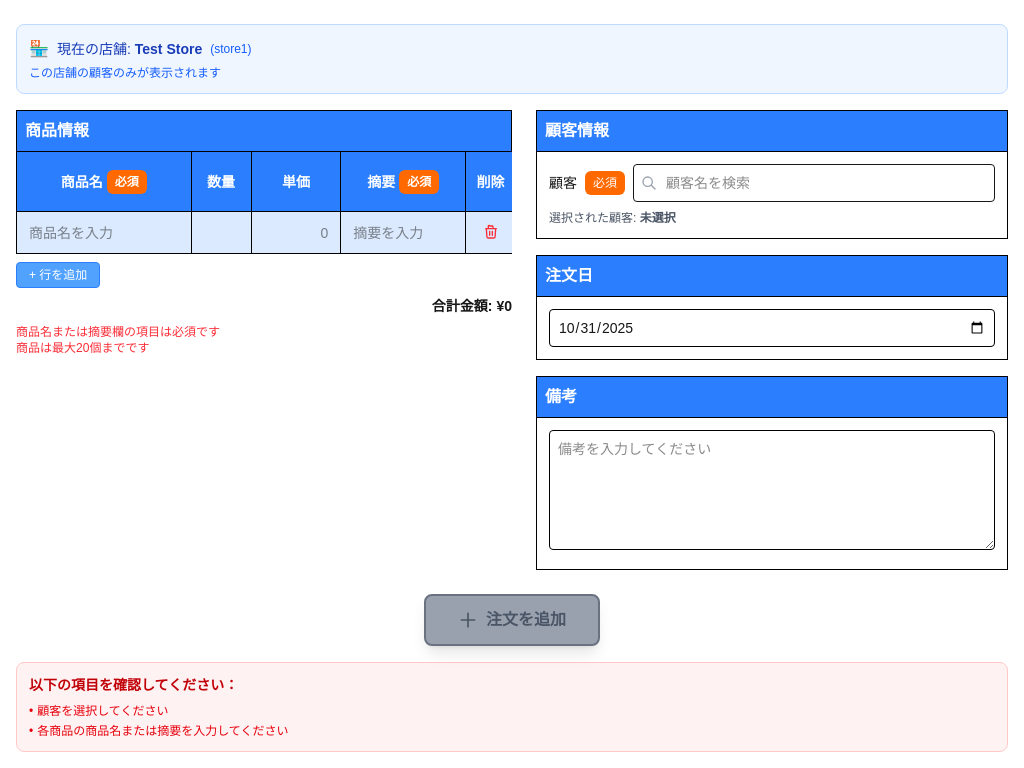
Test: OrderAddPage › cancels product deletion
The width and height of the screenshot is (1024, 768).
// Add second product first
Click the button "+ 行を追加" at (58,275), box [16,262,100,288]
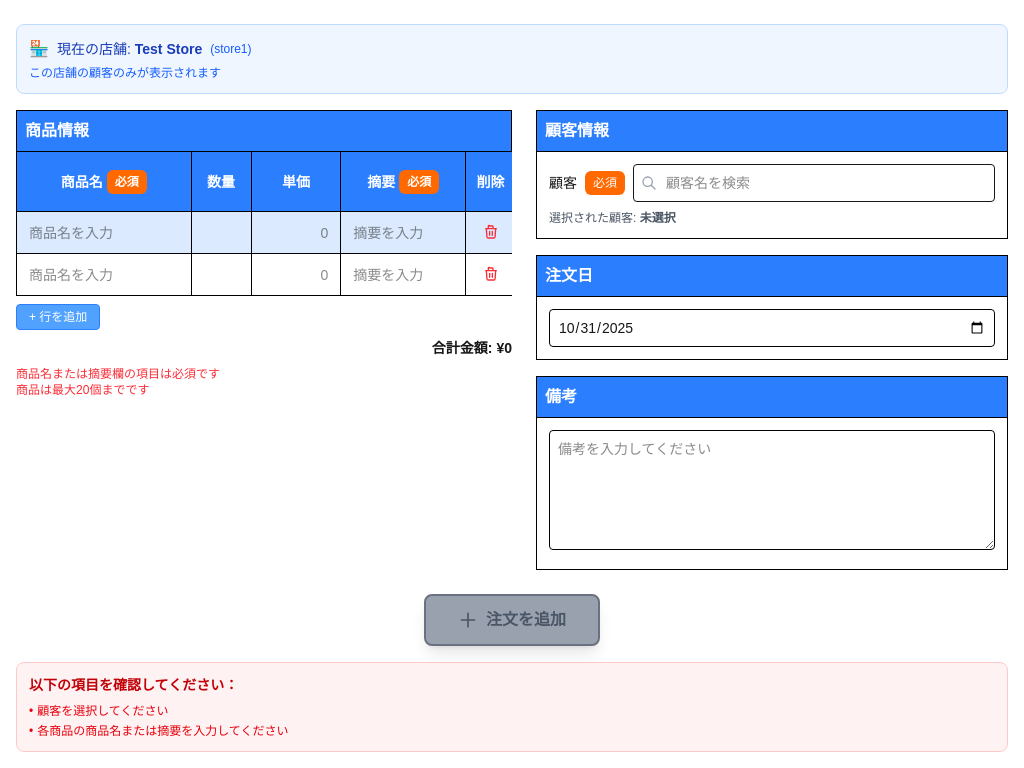
Expected: the number of buttons titled "この行を削除" is 2
// Click delete button
Click the 1st button titled "この行を削除" at (490,232), box [478,220,502,244]
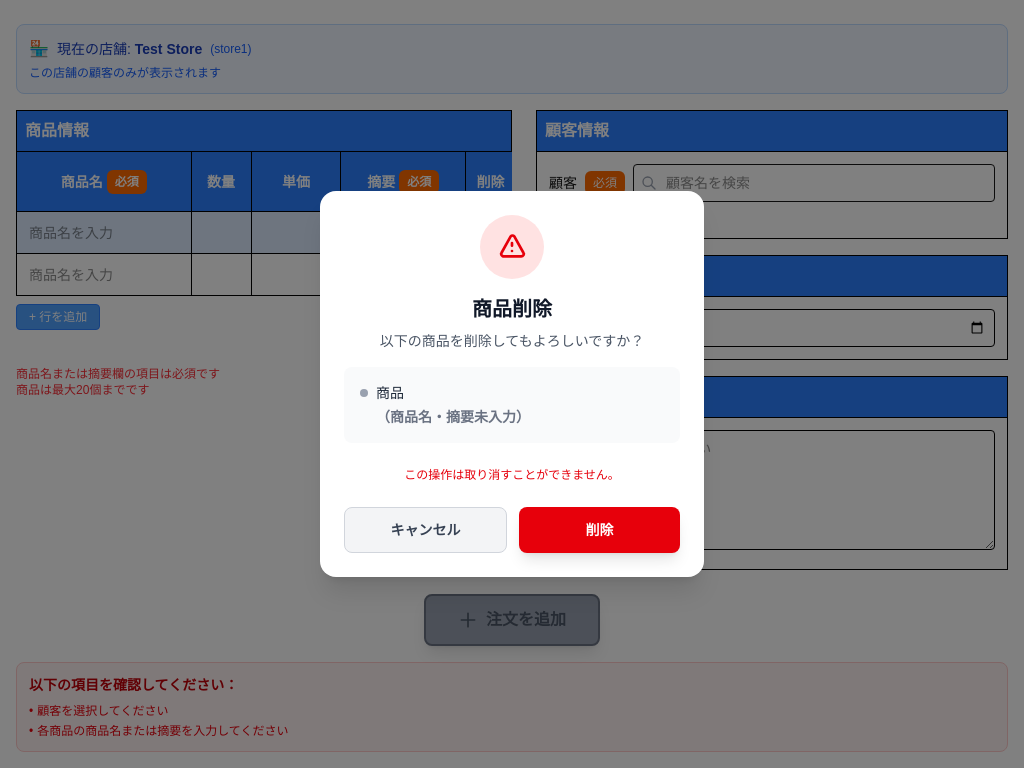
Expected: the heading "商品削除" is shown, [472,298,552,320]
// Cancel deletion
Click the button "キャンセル" at (426,530), box [344,507,507,553]
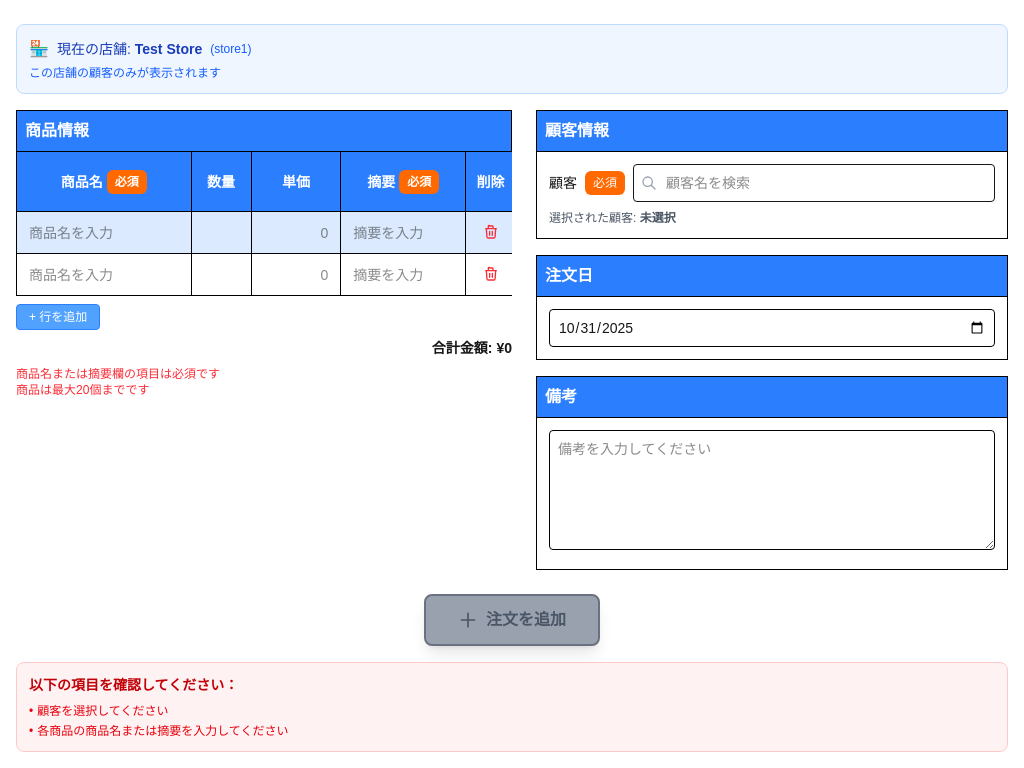
Expected: the heading "商品削除" is gone
